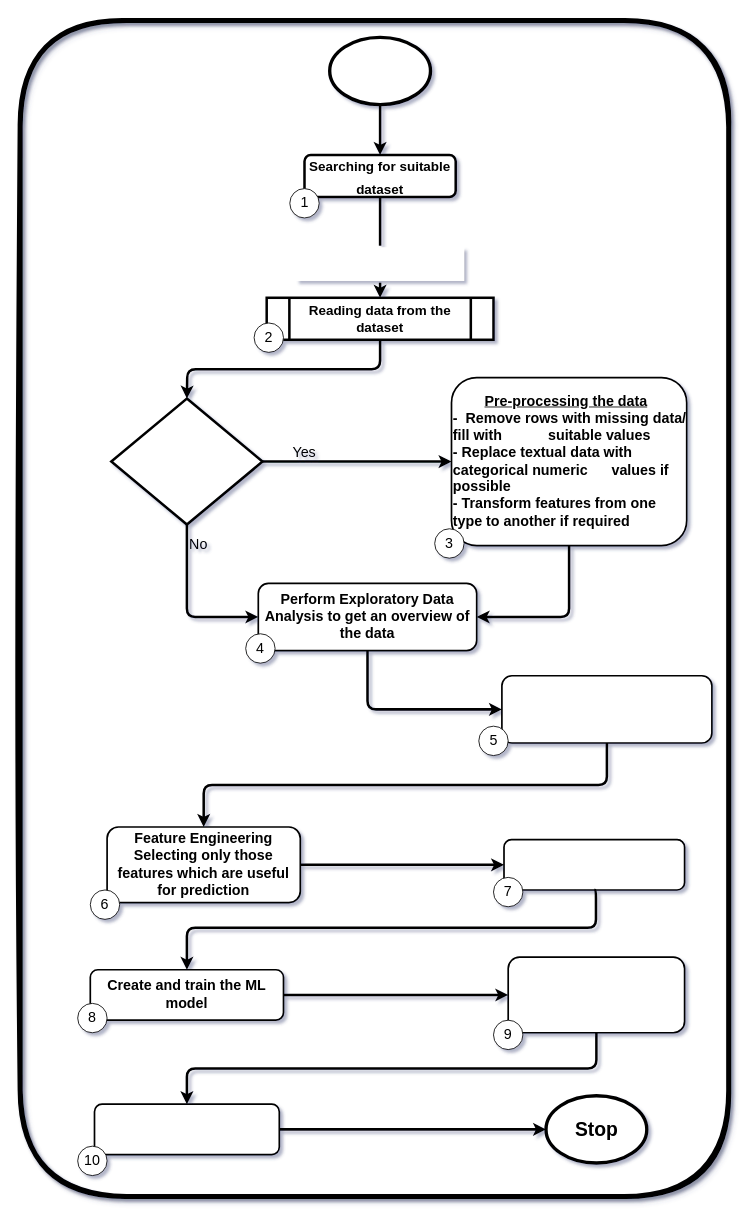
The diagram is 756 pixels wide and 1224 high, and some of its shapes have lost their labels. The shapes that lost their labels are listed below. From the top down, each one's centre as x and y in pixels, then its label:
At (380,70): "Start".
At (380,264): "After finding suitable dataset".
At (186,461): "Invalid/corrupted /missing values?".
At (606,709): "Identify independent and dependent variables based on problem statement and EDA".
At (594,864): "Split the data into train, validation and test sets".
At (596,994): "Validate and evaluate model based on suitable performance metrics".
At (186,1129): "Storytelling (Interpretation and visualization of results)".
